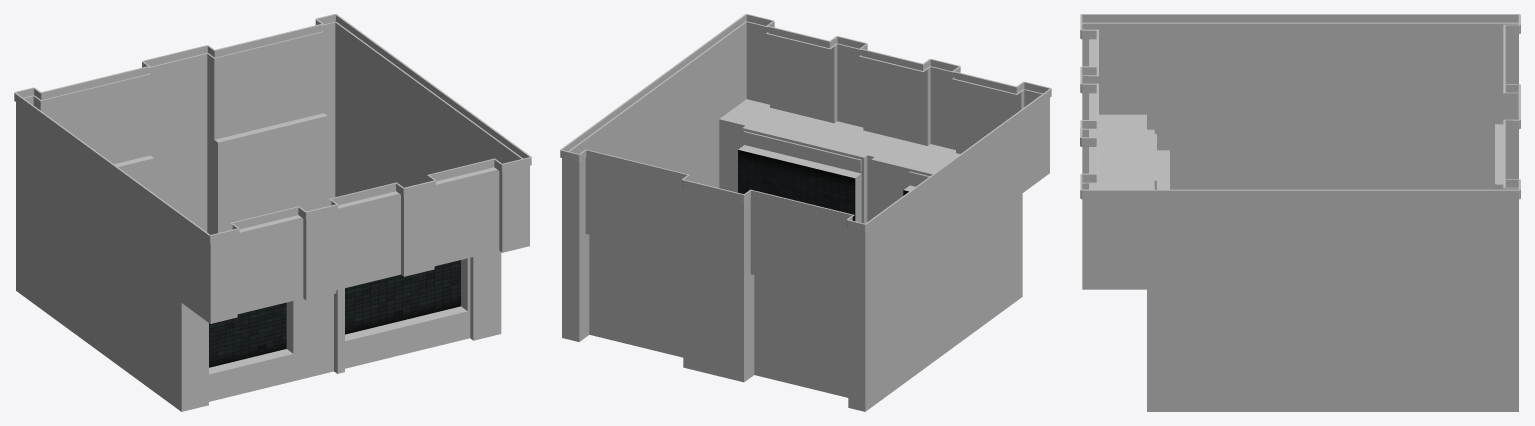
File: Build7B.fbx
3 views of the same model, side by side, from view 1: azimuth 30°, elevation 25°; view 2: azimuth 150°, elevation 25°; view 3: azimuth 270°, elevation 25° (orthographic). The views are drawn at different scales.
Visible parts, largest first — view 1: polySurface526; view 2: polySurface526; view 3: polySurface526.
Boxes of the visible parts, <box> form: polySurface526: <box>14,14,531,411</box>; polySurface526: <box>560,14,1051,411</box>; polySurface526: <box>1080,14,1520,411</box>.
Bounding box in the file's own units: 10.1 × 5.92 × 10.65.
